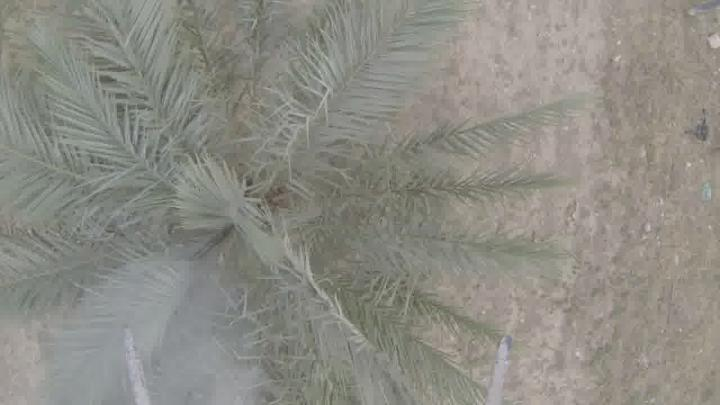Date-Palm-Crown: (39, 54, 442, 360)
